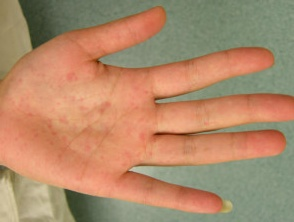SJS-TEN: (0, 26, 185, 209)
